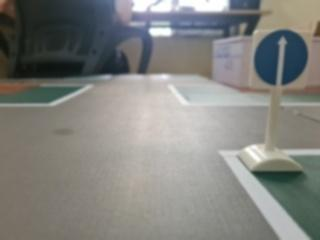straight: (248, 26, 313, 89)
